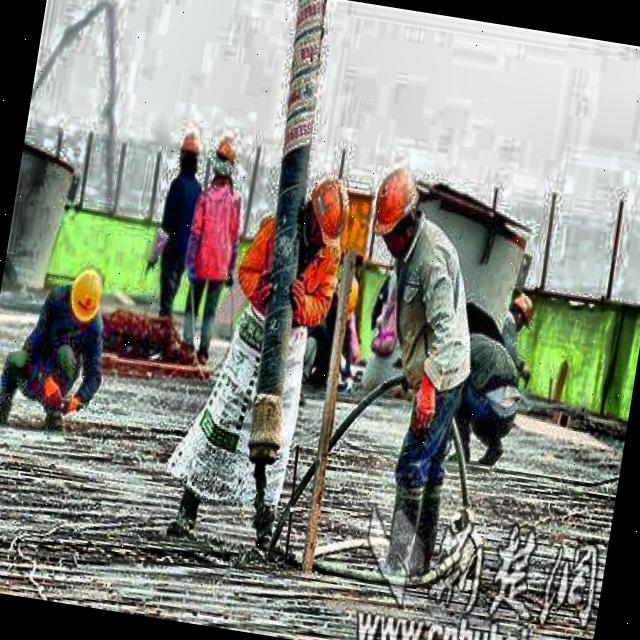helmet: (362, 154, 432, 266), (297, 168, 356, 260), (63, 262, 109, 330), (207, 130, 240, 188), (174, 126, 205, 182), (506, 290, 538, 338)
